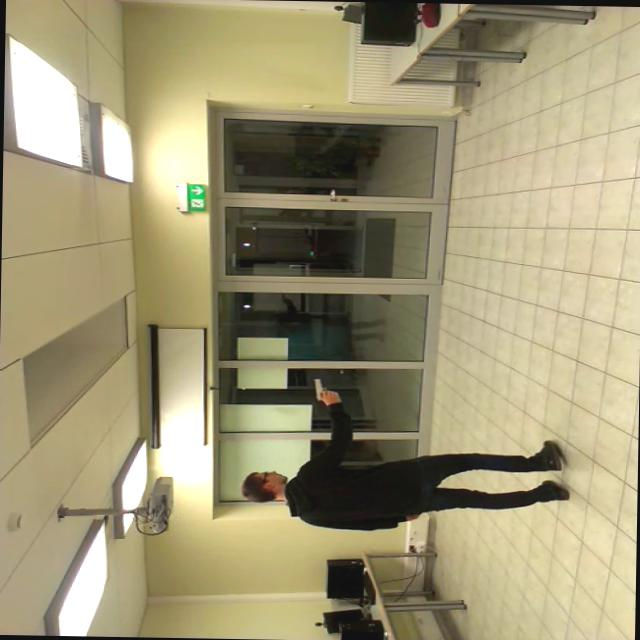handgun: (310, 370, 350, 406)
